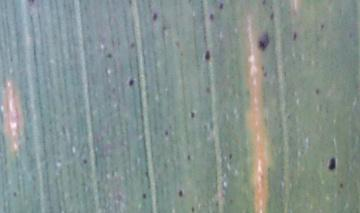tarspot: (256, 30, 270, 52), (143, 169, 152, 190), (326, 156, 338, 171), (126, 77, 136, 88), (172, 39, 182, 50), (188, 109, 197, 120), (203, 49, 211, 61), (268, 10, 275, 23), (207, 12, 215, 23), (151, 11, 159, 22), (313, 87, 322, 96), (105, 52, 114, 61), (25, 1, 36, 8), (128, 41, 137, 49), (204, 85, 212, 94), (318, 23, 326, 32), (291, 30, 298, 40), (227, 151, 234, 161), (11, 190, 19, 198), (177, 189, 184, 198), (81, 157, 88, 166), (160, 24, 167, 33), (186, 152, 192, 162), (218, 1, 224, 11), (163, 129, 170, 137), (262, 70, 269, 78), (7, 55, 14, 63), (141, 191, 147, 200), (214, 198, 220, 207), (259, 64, 265, 72), (338, 182, 344, 190), (178, 50, 184, 58), (285, 113, 291, 120), (190, 205, 195, 213), (261, 1, 267, 7), (127, 1, 132, 7), (186, 1, 192, 6)
